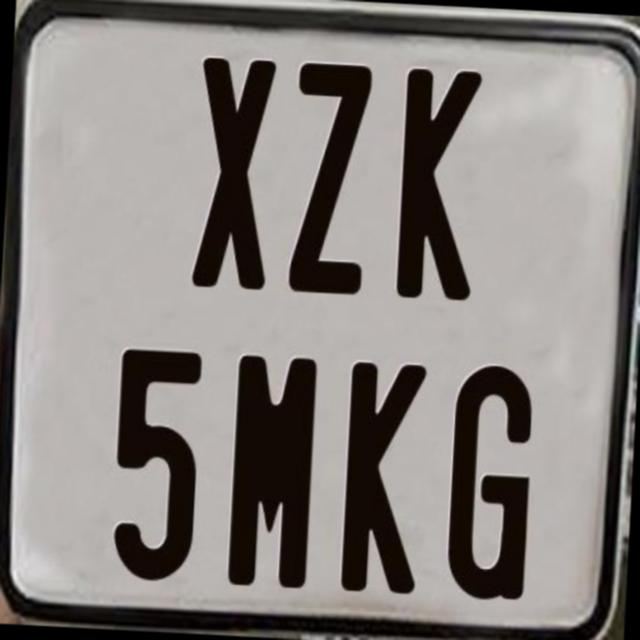5: (106, 345, 198, 582)
G: (444, 359, 536, 598)
K: (392, 68, 486, 309), (339, 358, 431, 601)
M: (227, 354, 321, 598)
X: (191, 58, 279, 298)
Z: (286, 58, 378, 292)
